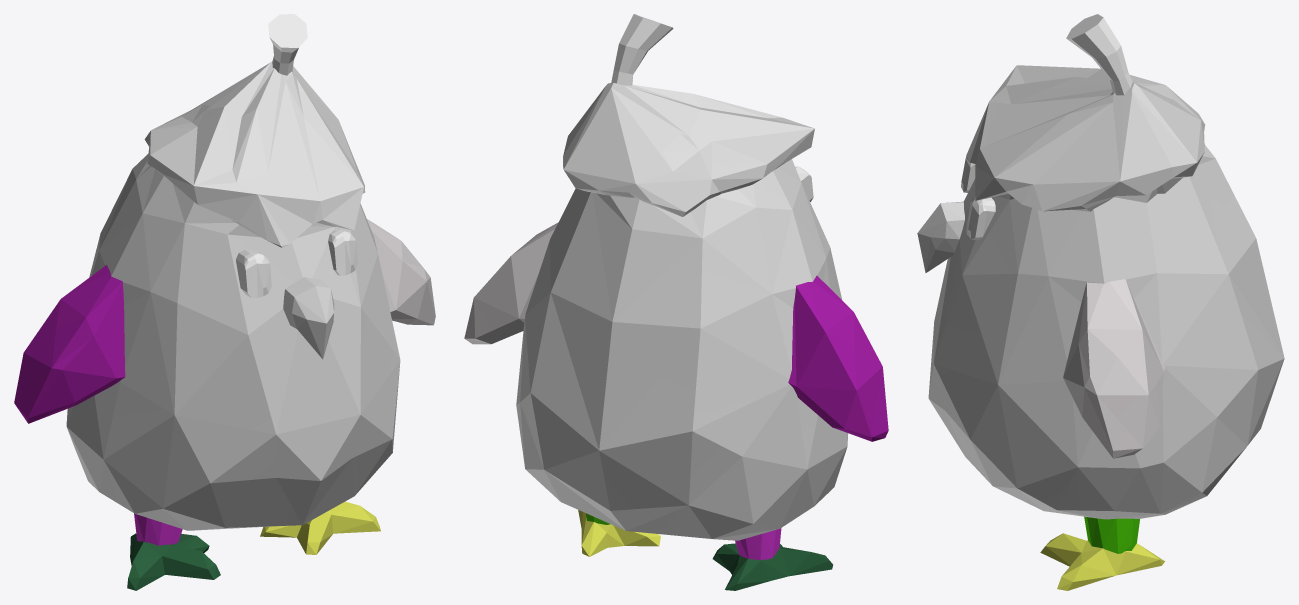
Rendered from chicken2.fbx.
3 renders of one model, left to right at view 1: azimuth 30°, elevation 25°; view 2: azimuth 150°, elevation 25°; view 3: azimuth 270°, elevation 25°, orthographic. The views are drawn at different scales.
Visible parts, largest first — view 1: chickenbody02, chickenhat02, chickenwing02, chickenfeet02, chickennose02, ckeckeneye02, chickenhathat02; view 2: chickenbody02, chickenhat02, chickenwing02, chickenfeet02, chickenhathat02; view 3: chickenbody02, chickenhat02, chickenwing02, chickenfeet02, chickenhathat02, chickennose02, ckeckeneye02.
Boxes of the visible parts, x1,y1,x2,y2 form: chickenbody02: (66,153,400,530); chickenhat02: (144,61,365,247); chickenwing02: (14,219,435,423); chickenfeet02: (127,501,380,590); chickennose02: (283,277,334,359); ckeckeneye02: (236,228,357,298); chickenhathat02: (268,14,307,75); chickenbody02: (516,159,848,540); chickenhat02: (563,83,814,216); chickenwing02: (464,222,888,441); chickenfeet02: (578,510,832,590); chickenhathat02: (611,14,673,85); chickenbody02: (928,144,1284,519); chickenhat02: (966,65,1205,211); chickenwing02: (1063,279,1164,458); chickenfeet02: (1040,516,1164,590); chickenhathat02: (1066,14,1132,95); chickennose02: (917,201,964,272); ckeckeneye02: (961,157,995,240).
Size of the model in its own units: 29.03 by 35.26 by 22.04.
